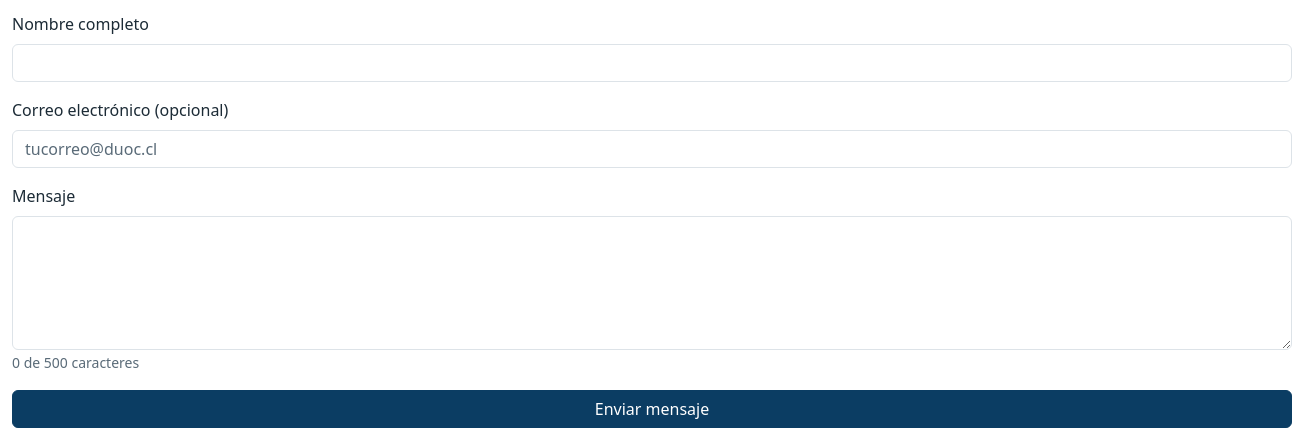
FormularioContacto › [Rúbrica 8/10 · Estado] cuenta los caracteres del mensaje mientras se escribe
The image size is (1304, 445).
Expected: the text "0 de 500 caracteres" is shown, 12,353 -> 139,372
Type "Hola" into the text box labelled "Mensaje".
click(652, 283); type("Hola")  # box 12,216 -> 1292,350
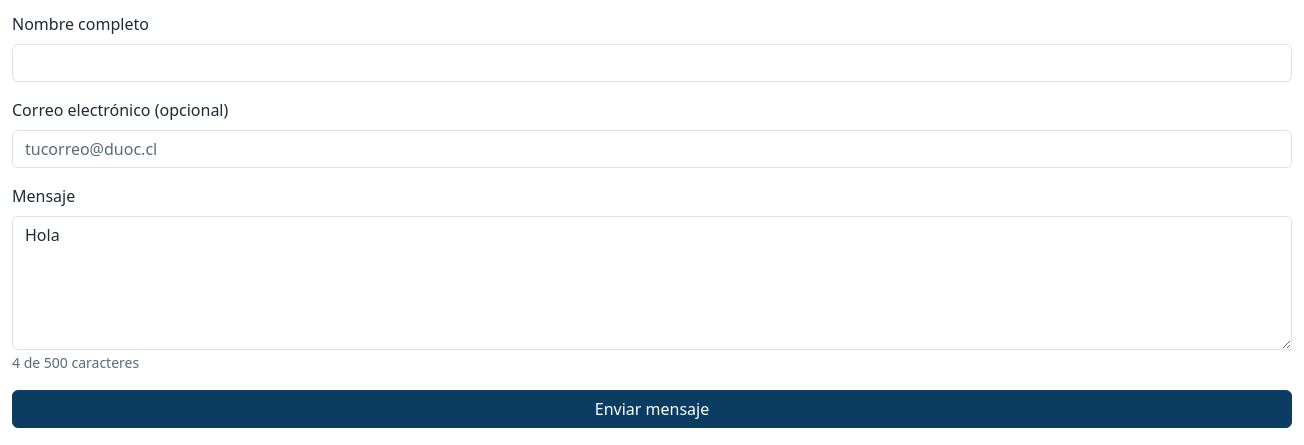
Expected: the text "4 de 500 caracteres" is shown, 12,353 -> 139,372
Expected: the text "0 de 500 caracteres" is gone
